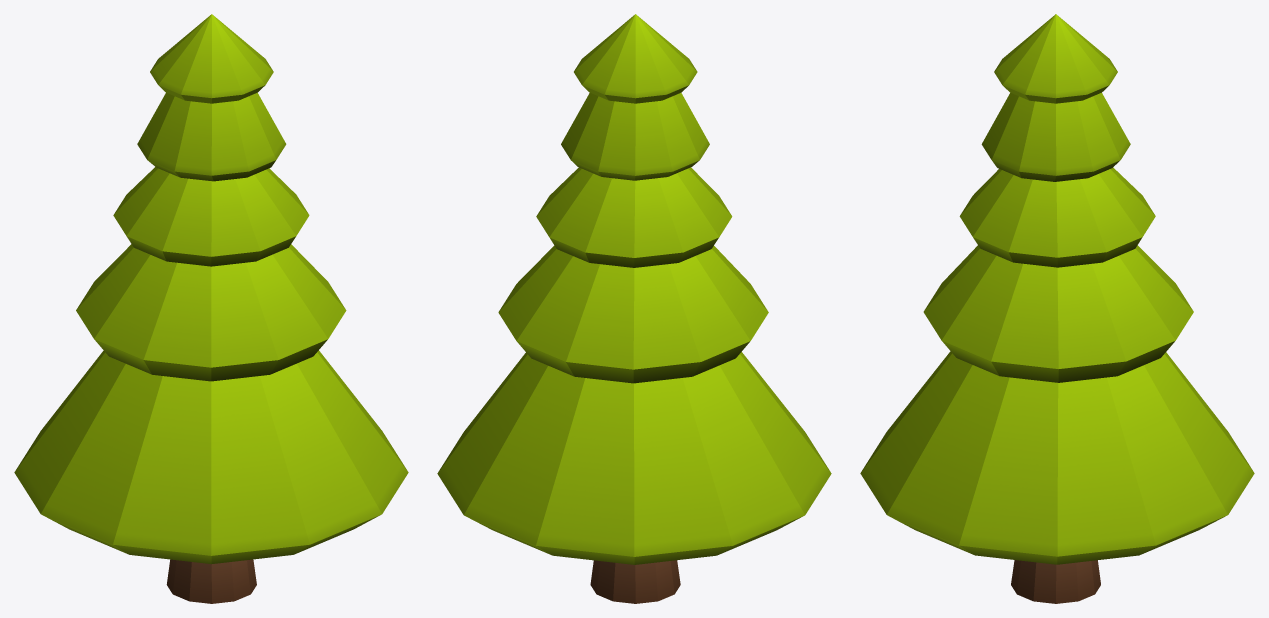
The model's file is Tree1.fbx.
3 views of the same model, side by side, from view 1: azimuth 30°, elevation 25°; view 2: azimuth 150°, elevation 25°; view 3: azimuth 270°, elevation 25° (orthographic).
Parts seen in each view (by area): view 1: Cube; view 2: Cube; view 3: Cube.
Part boxes in pixels (x1=…): Cube: x1=14, y1=14, x2=408, y2=603; Cube: x1=437, y1=14, x2=831, y2=603; Cube: x1=860, y1=14, x2=1254, y2=603.
Bounding box in the file's own units: 1715 × 2740 × 1715.
1 material, 1 textured.
